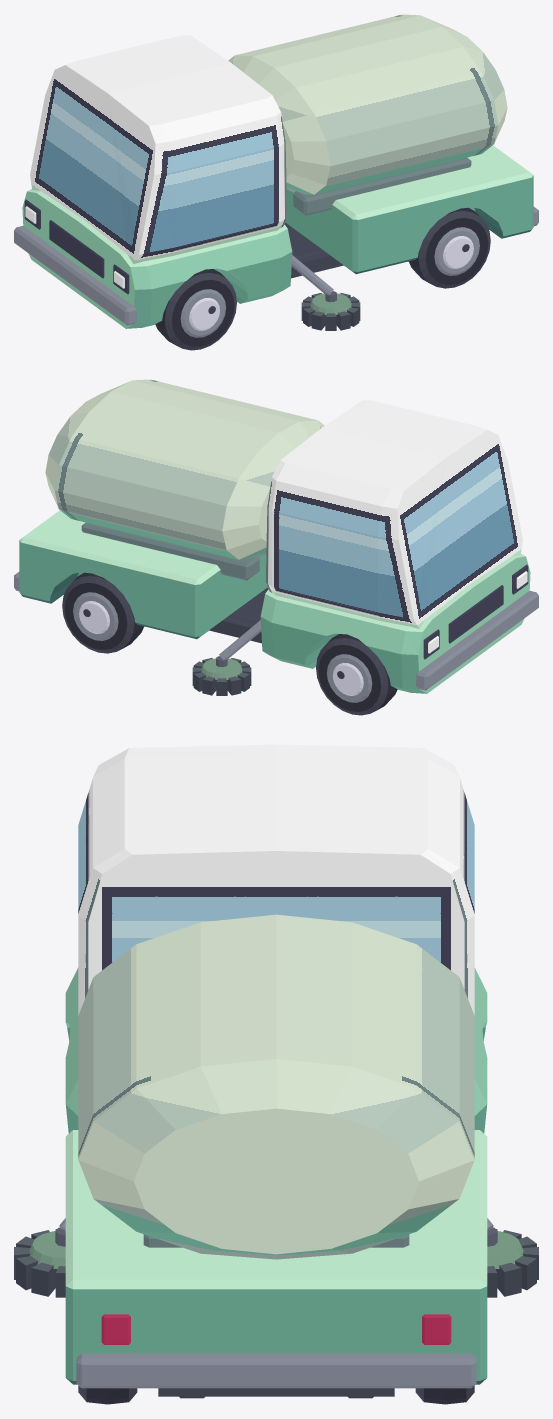
3 renders of one model, top to bottom at view 1: azimuth 30°, elevation 25°; view 2: azimuth 150°, elevation 25°; view 3: azimuth 270°, elevation 25°, orthographic. The views are drawn at different scales.
Visible parts, largest first — view 1: Body_static, Wheel_FL_tire_hub, Wheel_RL_tire_hub; view 2: Body_static, Wheel_FR_tire_hub, Wheel_RR_tire_hub; view 3: Body_static, Wheel_RL_tire_hub, Wheel_RR_tire_hub.
Boxes of the visible parts, x1,y1,x2,y2 form: Body_static: (14, 14, 538, 330); Wheel_FL_tire_hub: (155, 269, 236, 350); Wheel_RL_tire_hub: (408, 207, 490, 288); Body_static: (14, 379, 538, 695); Wheel_FR_tire_hub: (316, 634, 397, 715); Wheel_RR_tire_hub: (62, 572, 144, 653); Body_static: (14, 744, 538, 1398); Wheel_RL_tire_hub: (78, 1386, 137, 1404); Wheel_RR_tire_hub: (415, 1386, 474, 1404).
Size of the model in its own units: 69.57 by 36.52 by 43.32.
Materials: 1 (1 with a texture image).
